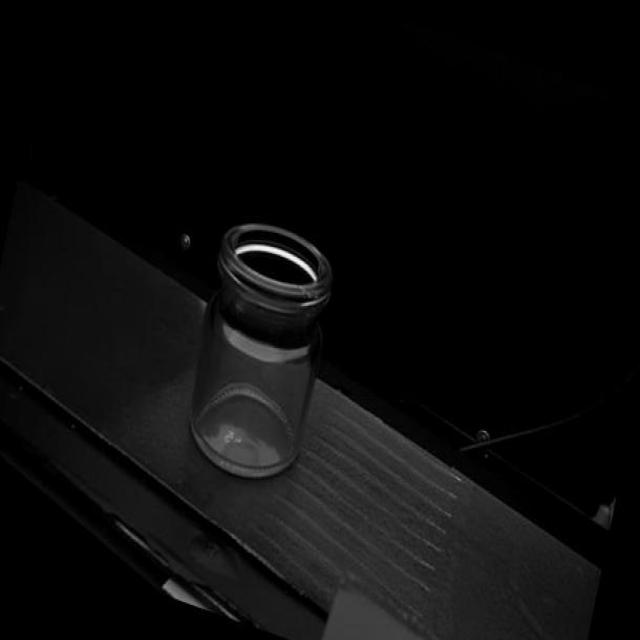defect: (295, 283, 320, 302), (305, 308, 317, 322)
glass: (172, 204, 345, 498)
